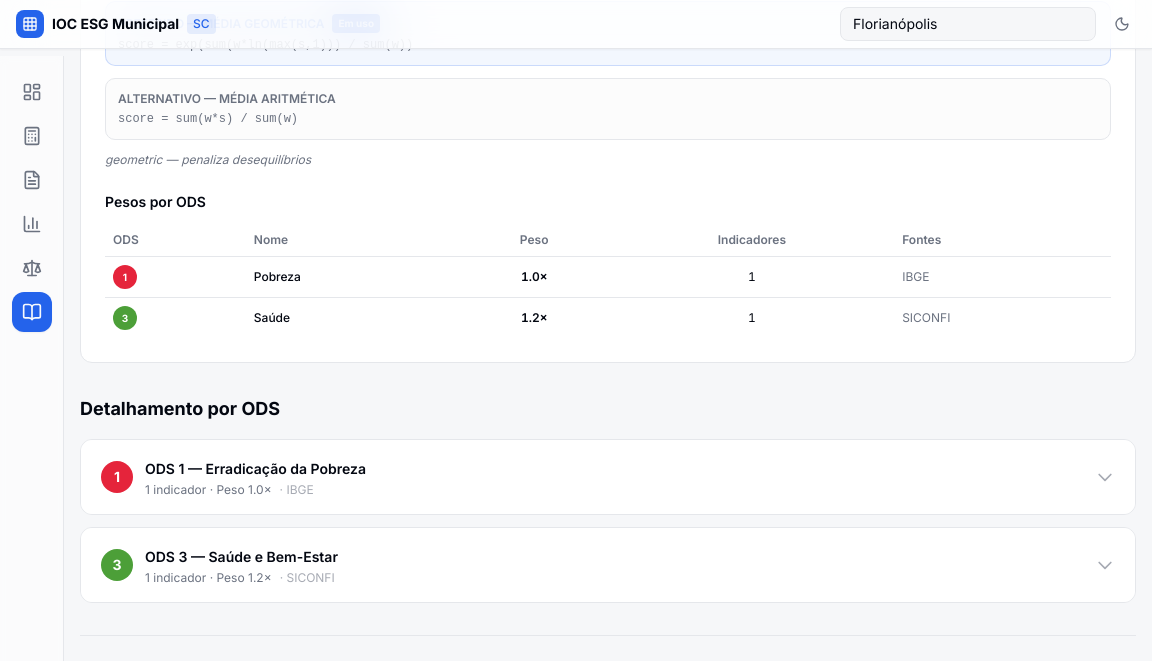
Test case: MethodologyPage › mostra badge Menor = melhor para indicadores invertidos
The image size is (1152, 661).
(page scrolled)
Expected: the text "ODS 1 — Erradicação da Pobreza" is shown, [145, 460, 366, 477]
Click the button "ODS 1 — Erradicação da Pobreza": (117, 477) [81, 440, 1135, 514]
(page scrolled)
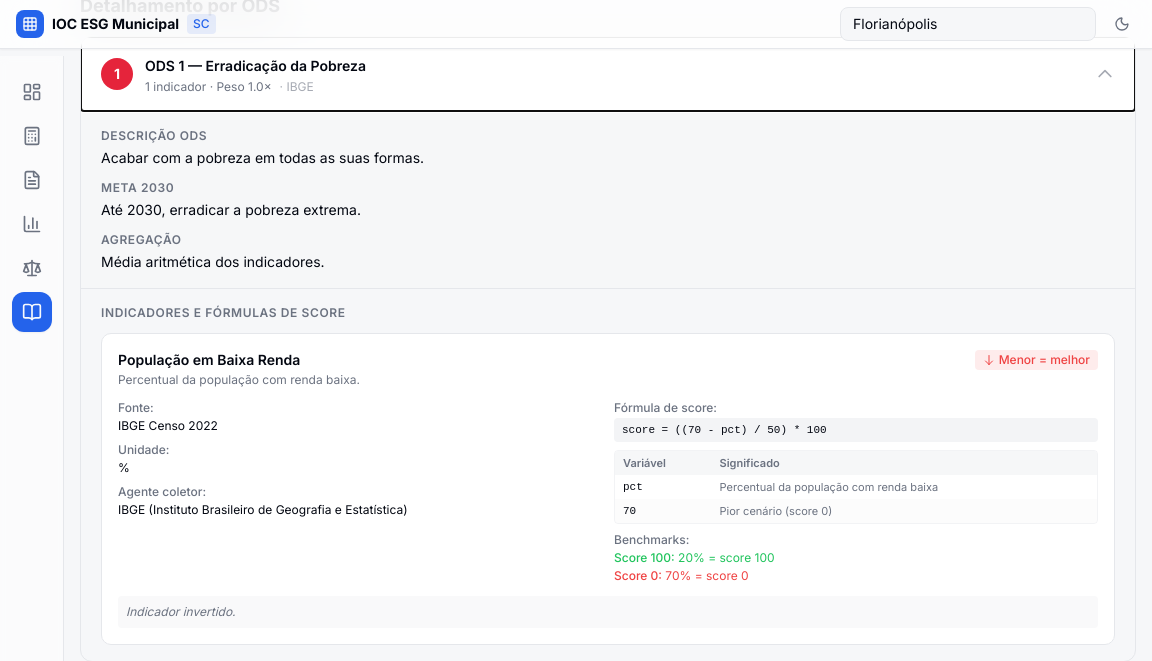
Result: the text "Menor = melhor" is shown at [975, 350, 1098, 370]
